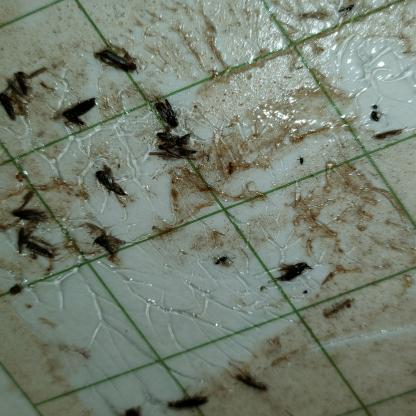prays_oleae: (90, 160, 132, 211), (13, 227, 60, 269), (96, 40, 142, 80), (6, 194, 52, 233), (147, 90, 187, 133), (58, 96, 102, 129), (235, 362, 267, 399), (11, 61, 36, 102), (165, 390, 209, 412), (0, 86, 19, 132), (209, 254, 236, 272), (175, 145, 197, 162), (158, 127, 179, 143), (174, 132, 193, 146), (158, 140, 174, 151)
